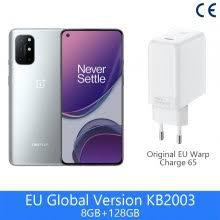Smartphone: (61, 33, 122, 165), (11, 29, 60, 168)
